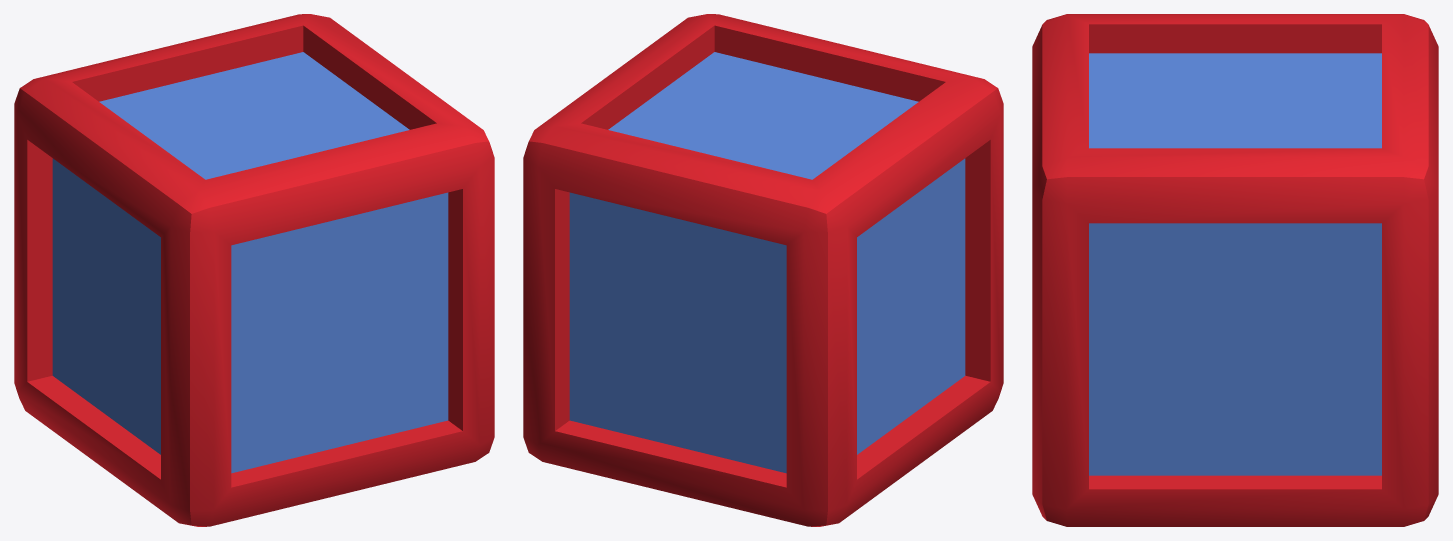
Rendered from Obstacle 15 V1.fbx.
3 renders of one model, left to right at view 1: azimuth 30°, elevation 25°; view 2: azimuth 150°, elevation 25°; view 3: azimuth 270°, elevation 25°, orthographic. The views are drawn at different scales.
Parts seen in each view (by area): view 1: O15 Part 1; view 2: O15 Part 1; view 3: O15 Part 1.
Part boxes in pixels (bbox=[...]): O15 Part 1: bbox=[14, 14, 494, 526]; O15 Part 1: bbox=[523, 14, 1003, 526]; O15 Part 1: bbox=[1032, 14, 1438, 526].
Size of the model in its own units: 62.51 by 62.51 by 62.51.
1 material, 1 textured.
